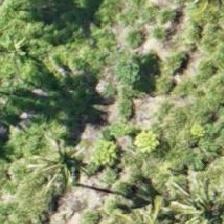coconut_tree: (18, 119, 108, 209), (160, 170, 223, 223)
